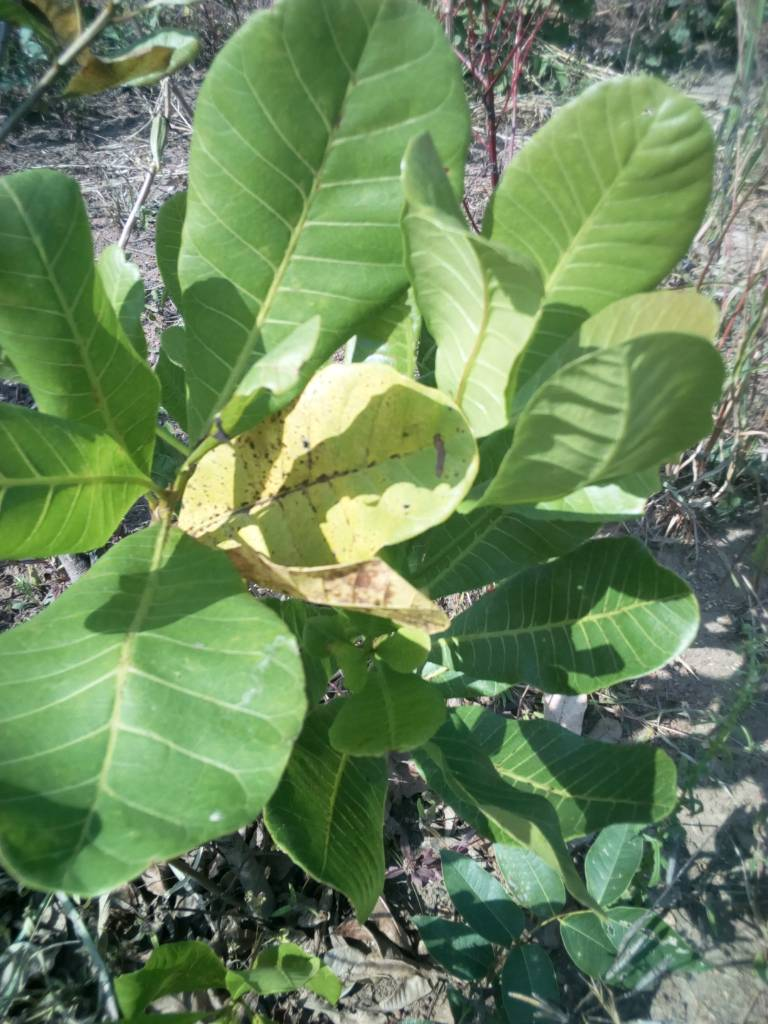Anthracnose: (171, 361, 488, 557)
